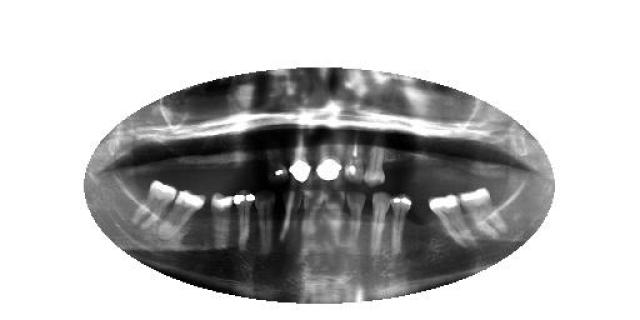Fillings: (428, 192, 473, 248), (458, 188, 508, 238), (132, 178, 178, 232), (158, 189, 206, 240), (234, 188, 255, 254), (392, 192, 412, 256), (288, 136, 312, 182), (315, 139, 341, 181)
